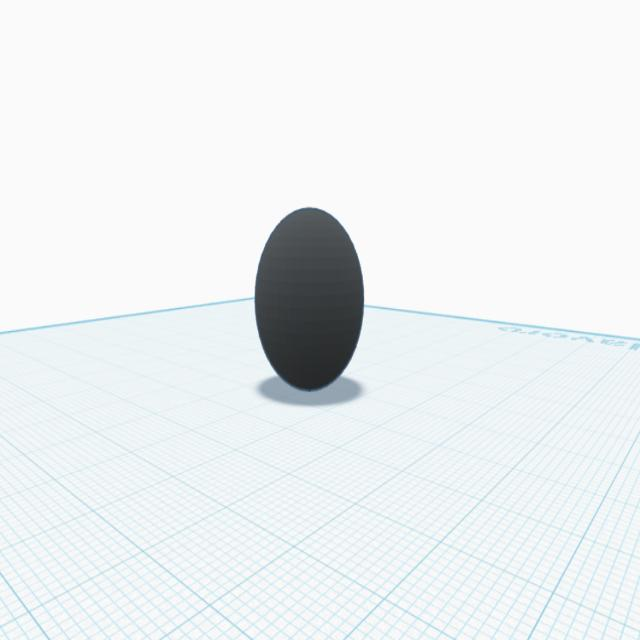sphere: (250, 202, 367, 396)
